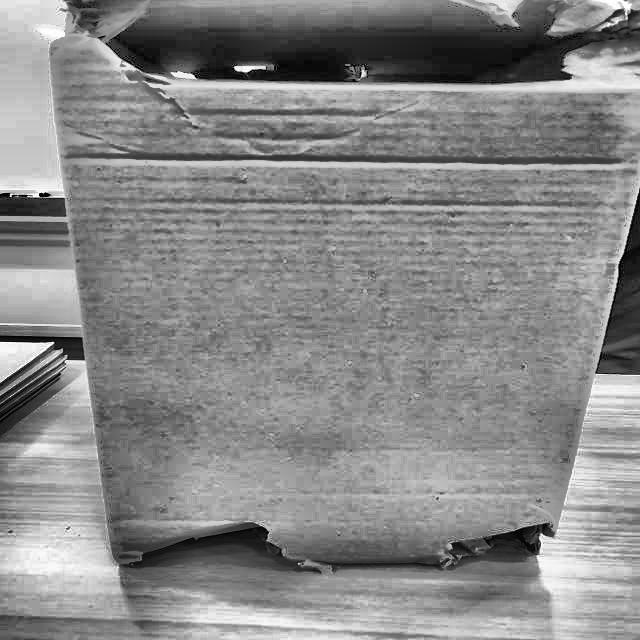box: (37, 0, 639, 586)
hole: (59, 1, 640, 125), (126, 509, 284, 570), (438, 508, 565, 568)
